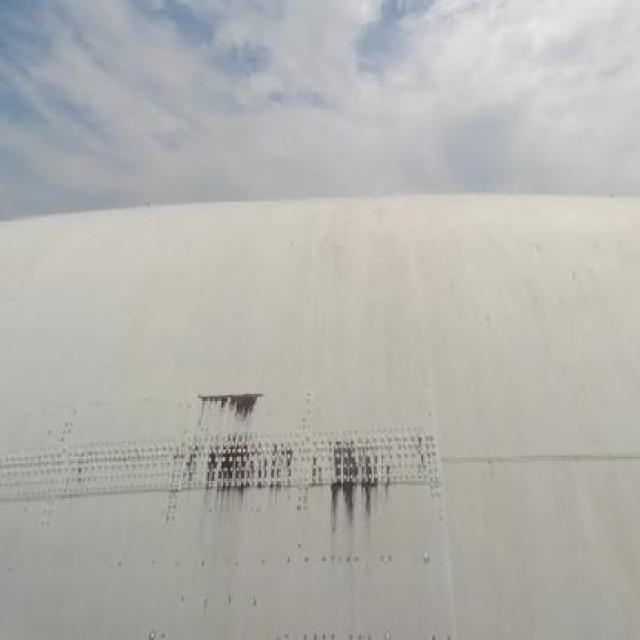Rust: (156, 348, 415, 543)
